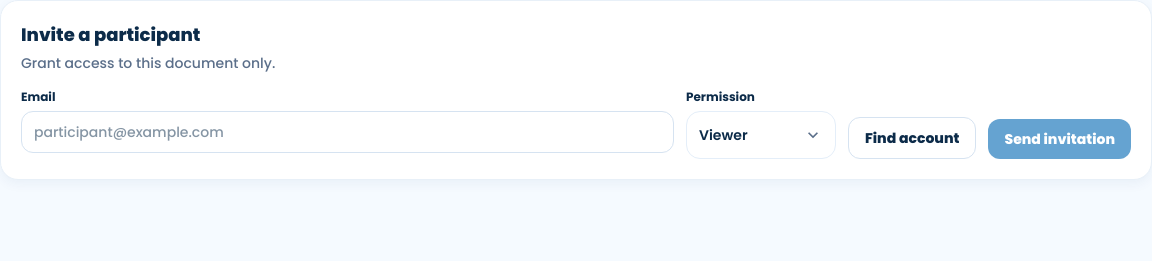
Test: InviteParticipantForm account lookup › keeps entered values and shows backend feedback when an invitation is rejected
Type "person@example.com" into the field labelled "Email" at point(348, 132), box [21,111,674,153]
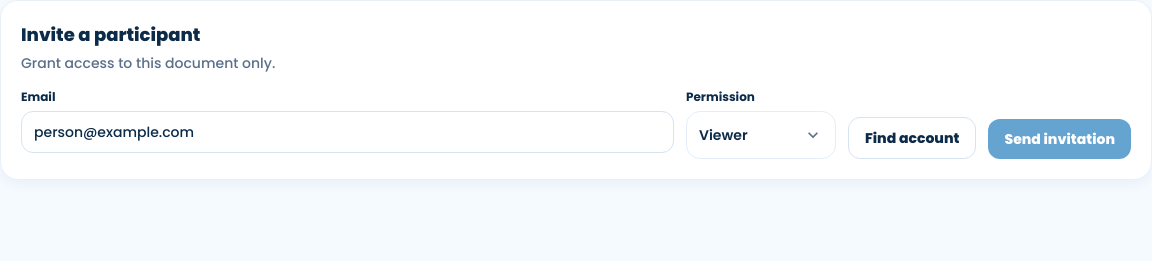
Click the button "Find account" at point(912, 138), box [848,117,976,159]
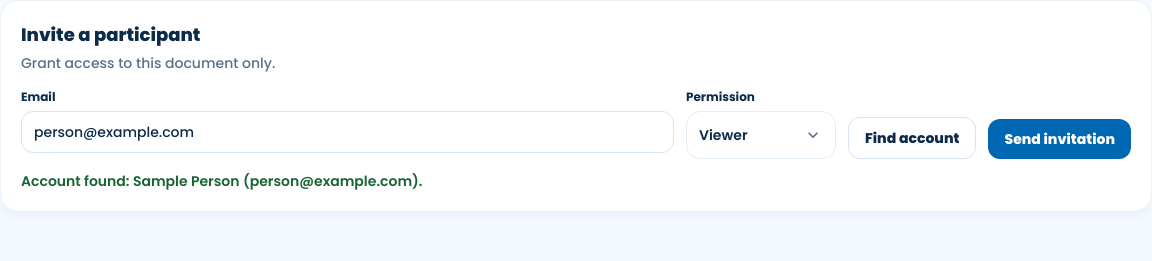
Now the text "Account found: Sample Person (person@example.com)." is shown, box [21,171,422,191]
Click the button "Send invitation" at point(1060, 139), box [988,119,1131,159]
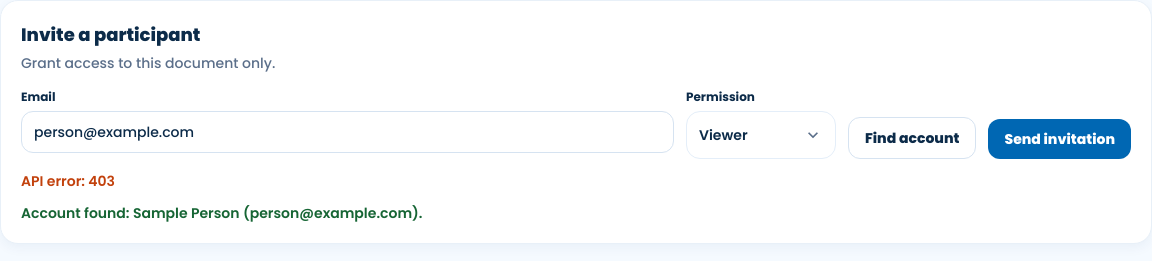
Now the message "API error: 403" is shown, box [21,171,115,191]
